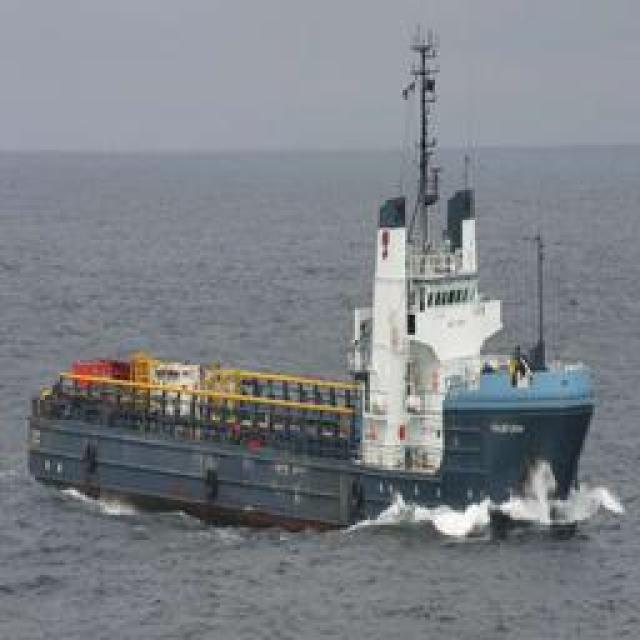ship2: (27, 26, 595, 534)
